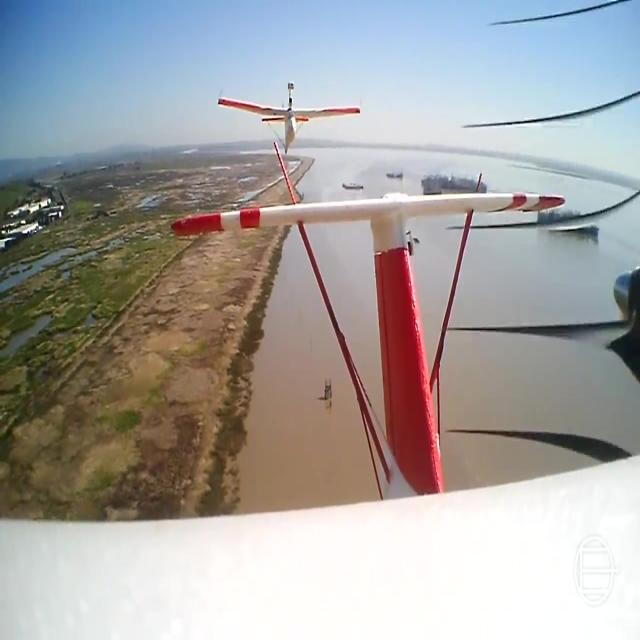iha: (216, 52, 361, 56)
